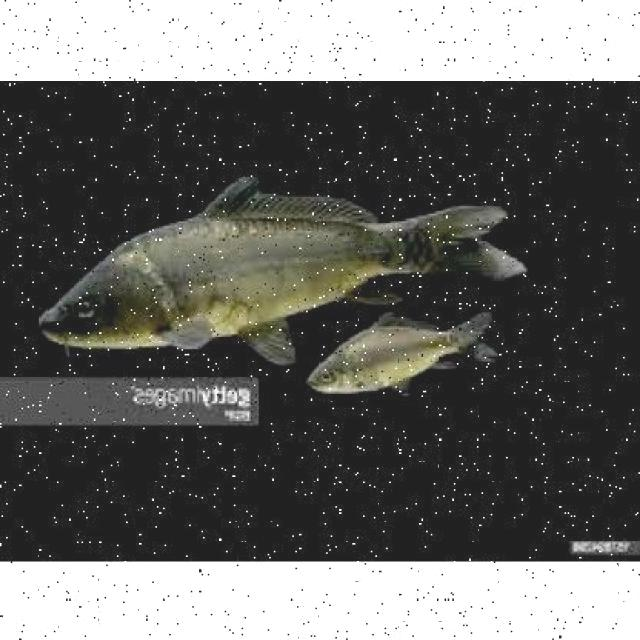ikan-mas: (38, 168, 520, 349), (302, 303, 504, 399)
